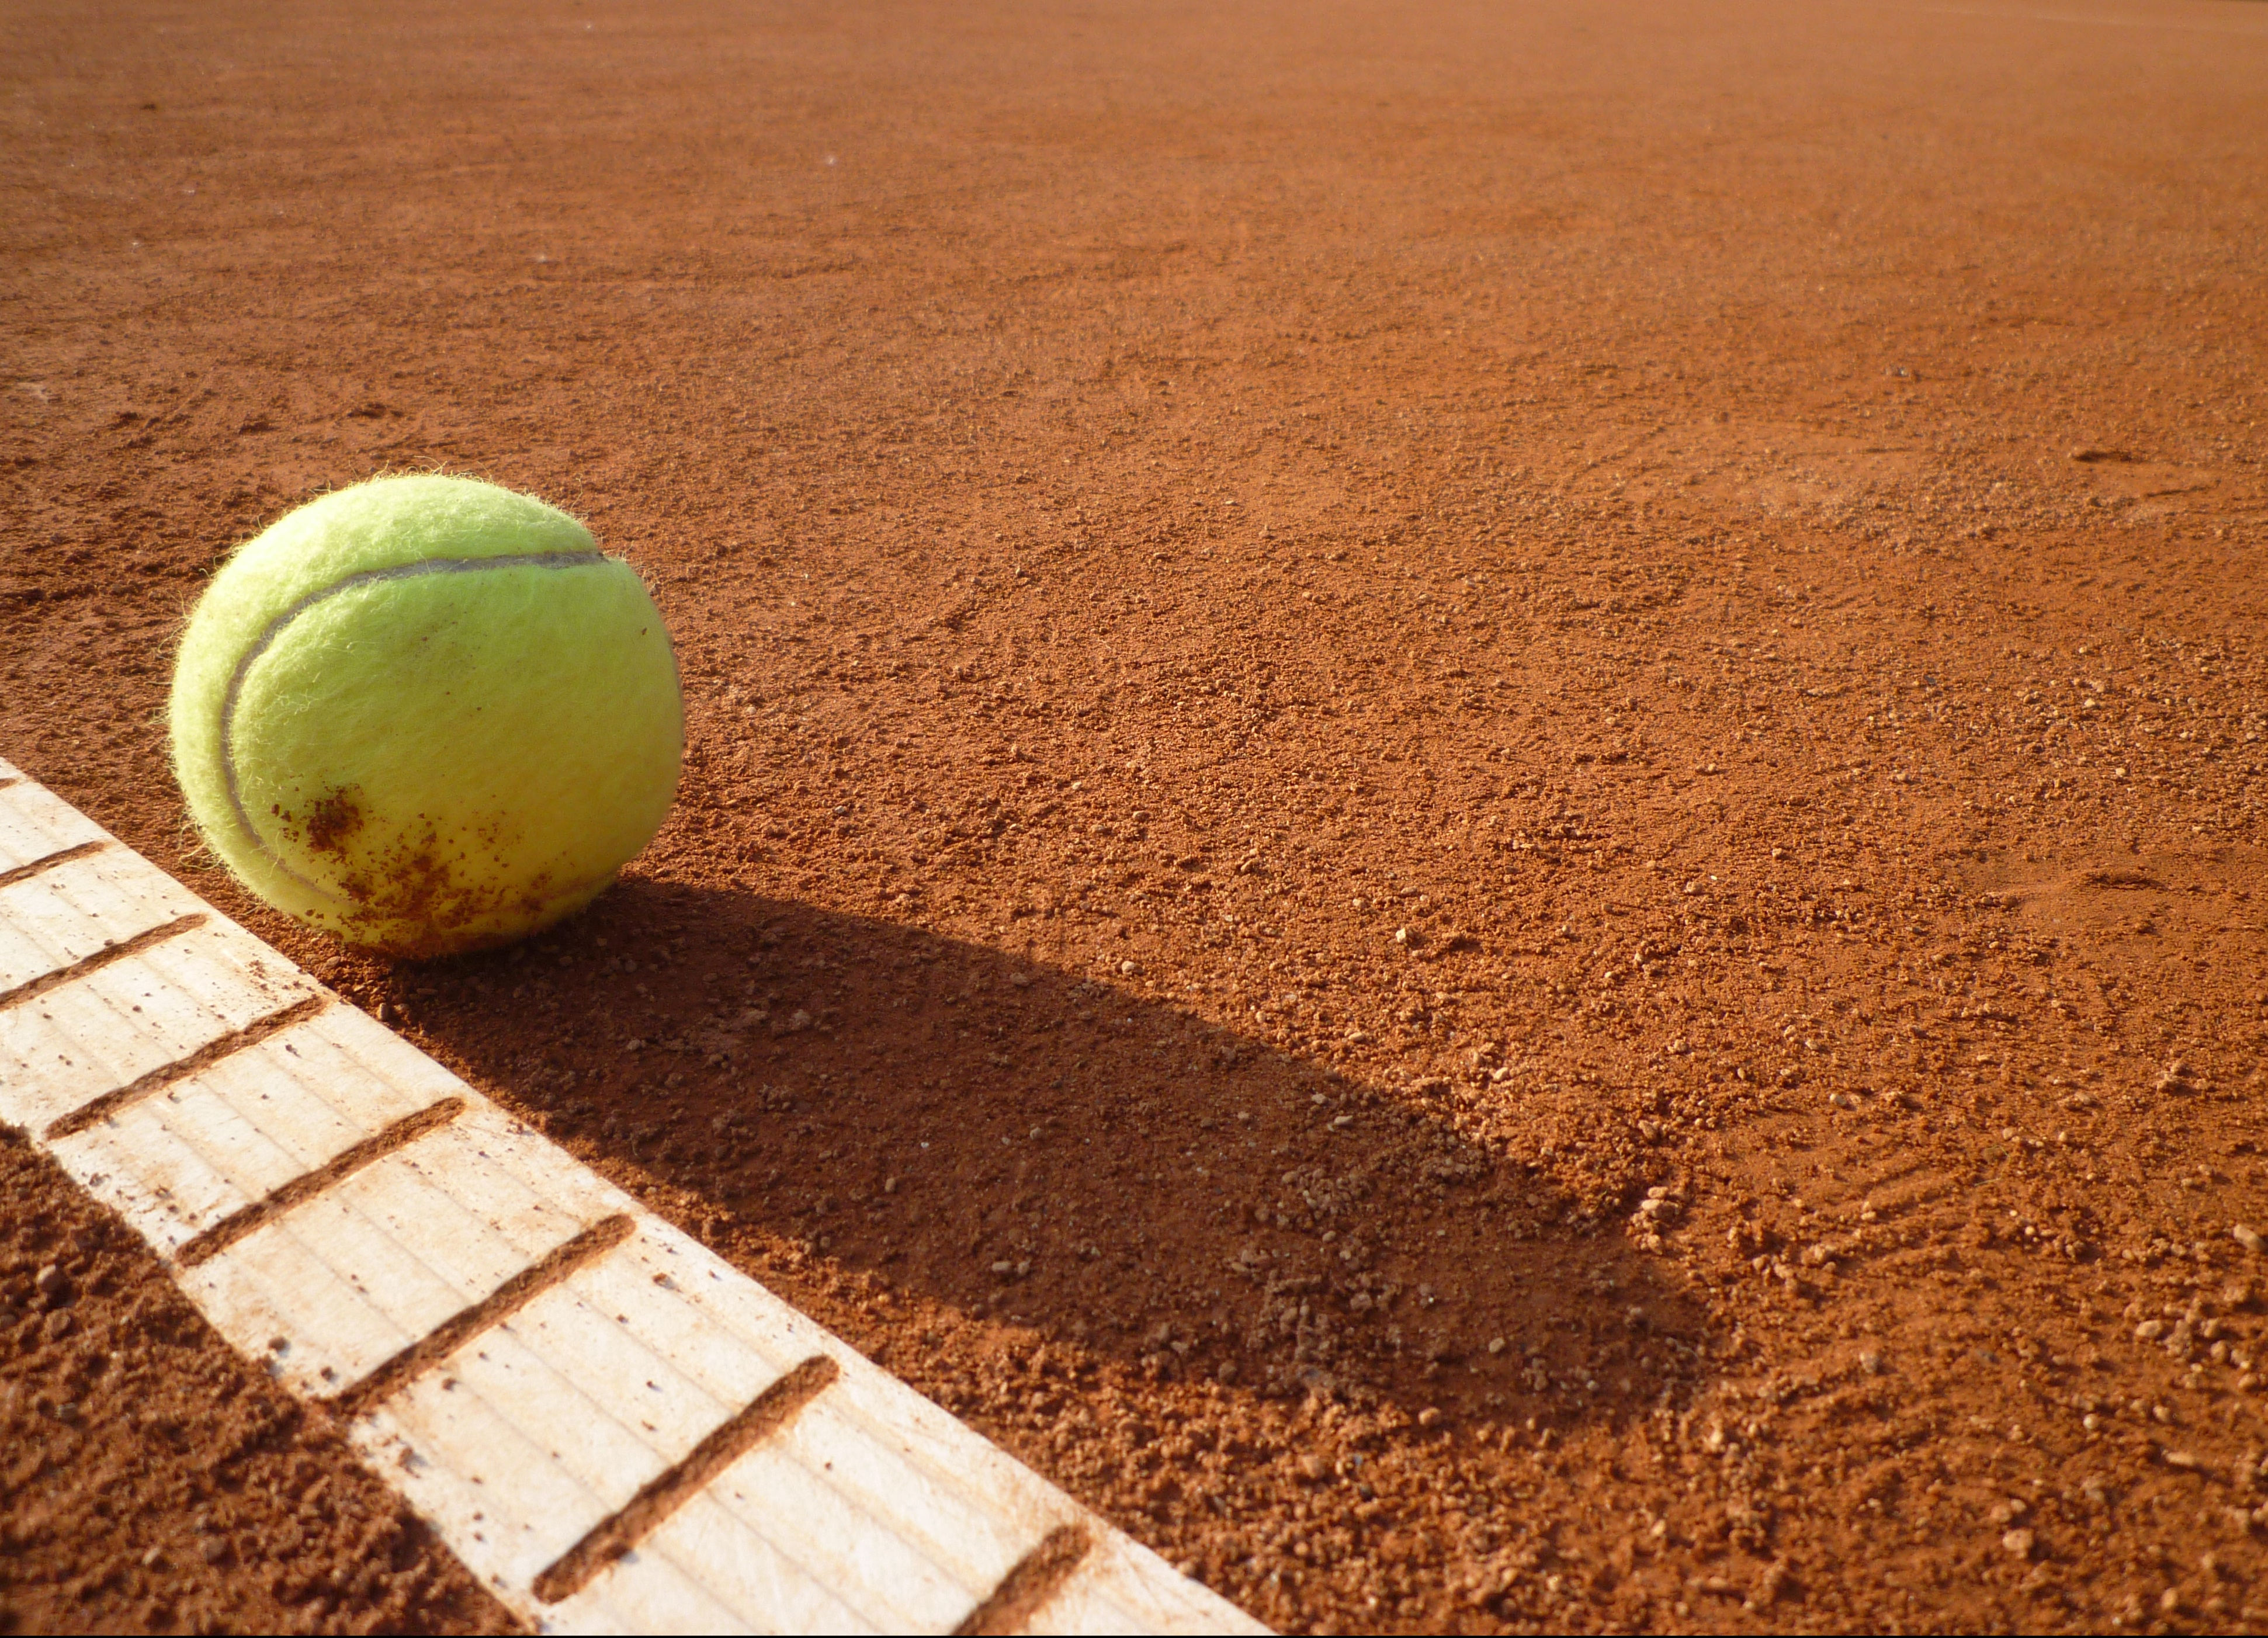tennis_ball: (153, 454, 696, 970)
